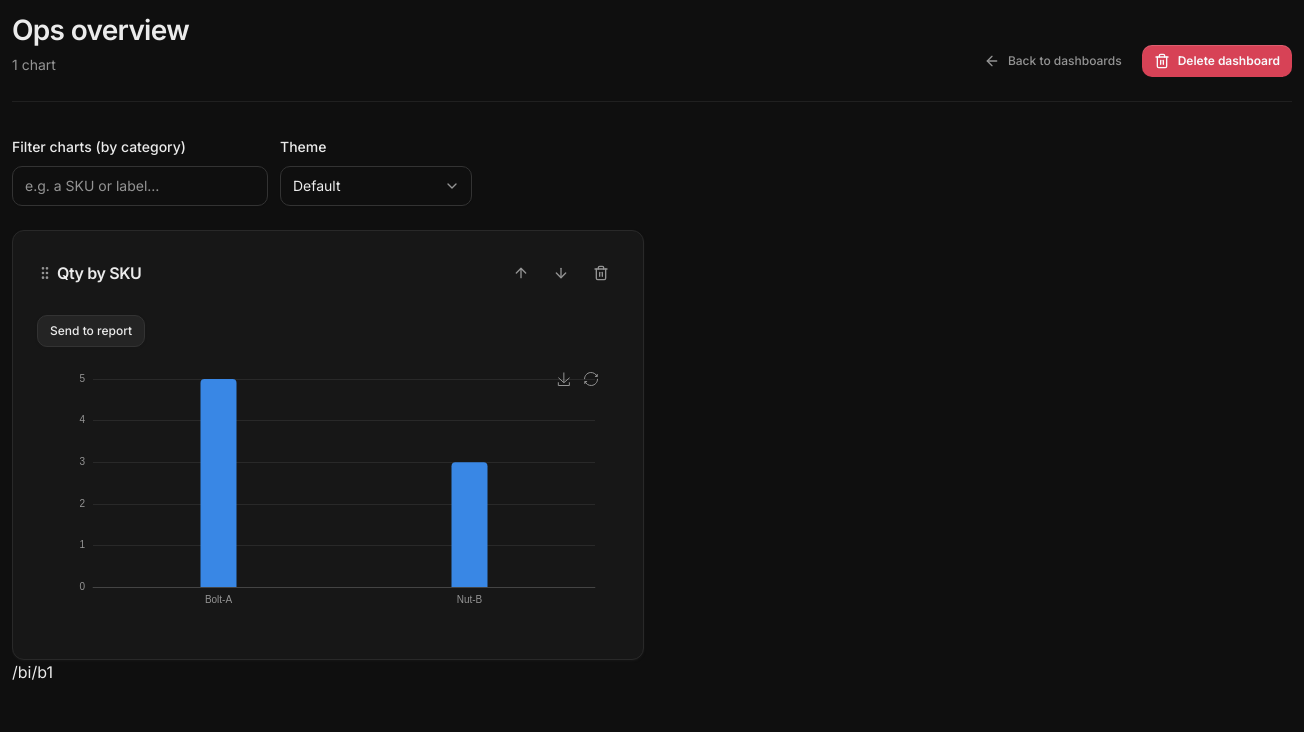
Test case: DashboardDetail › sends a chart to the report inbox
The width and height of the screenshot is (1304, 732).
Click the button "Send to report". click: (91, 331)
box: [37, 315, 145, 347]
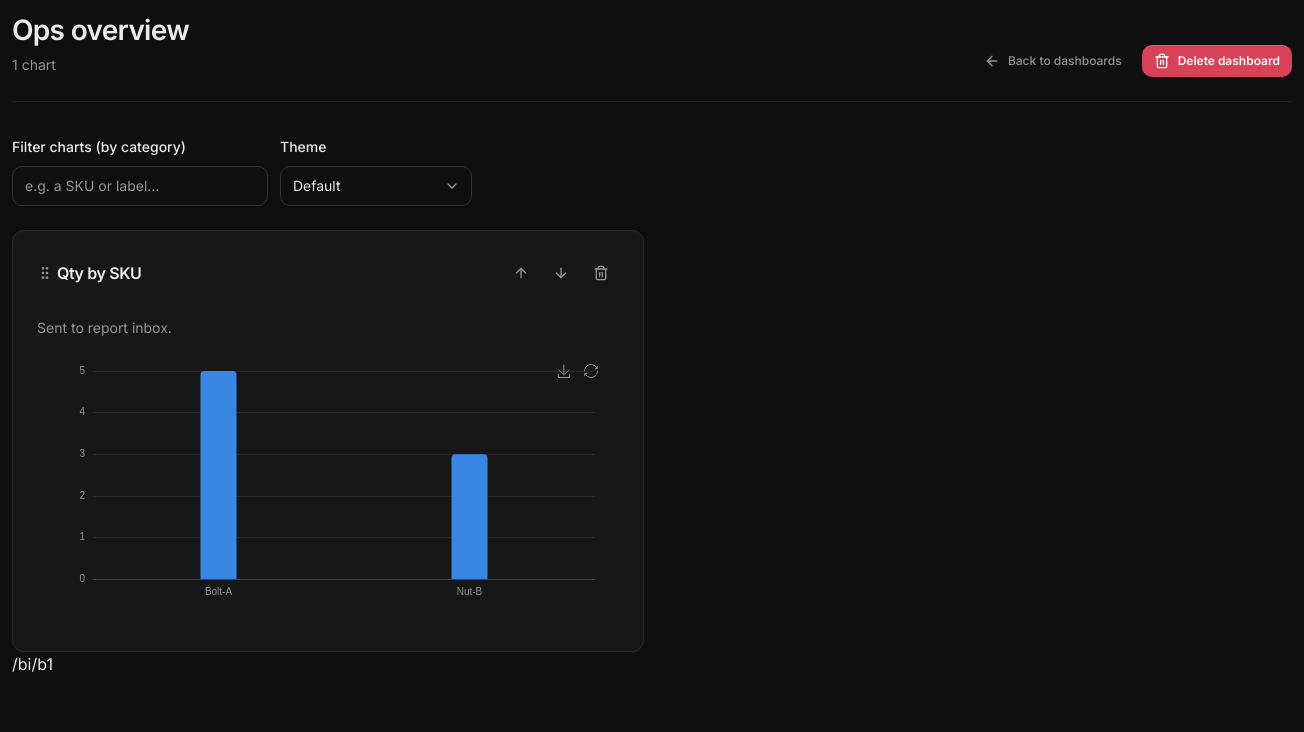
Result: the text "Sent to report inbox." is shown at [37, 319, 172, 336]
